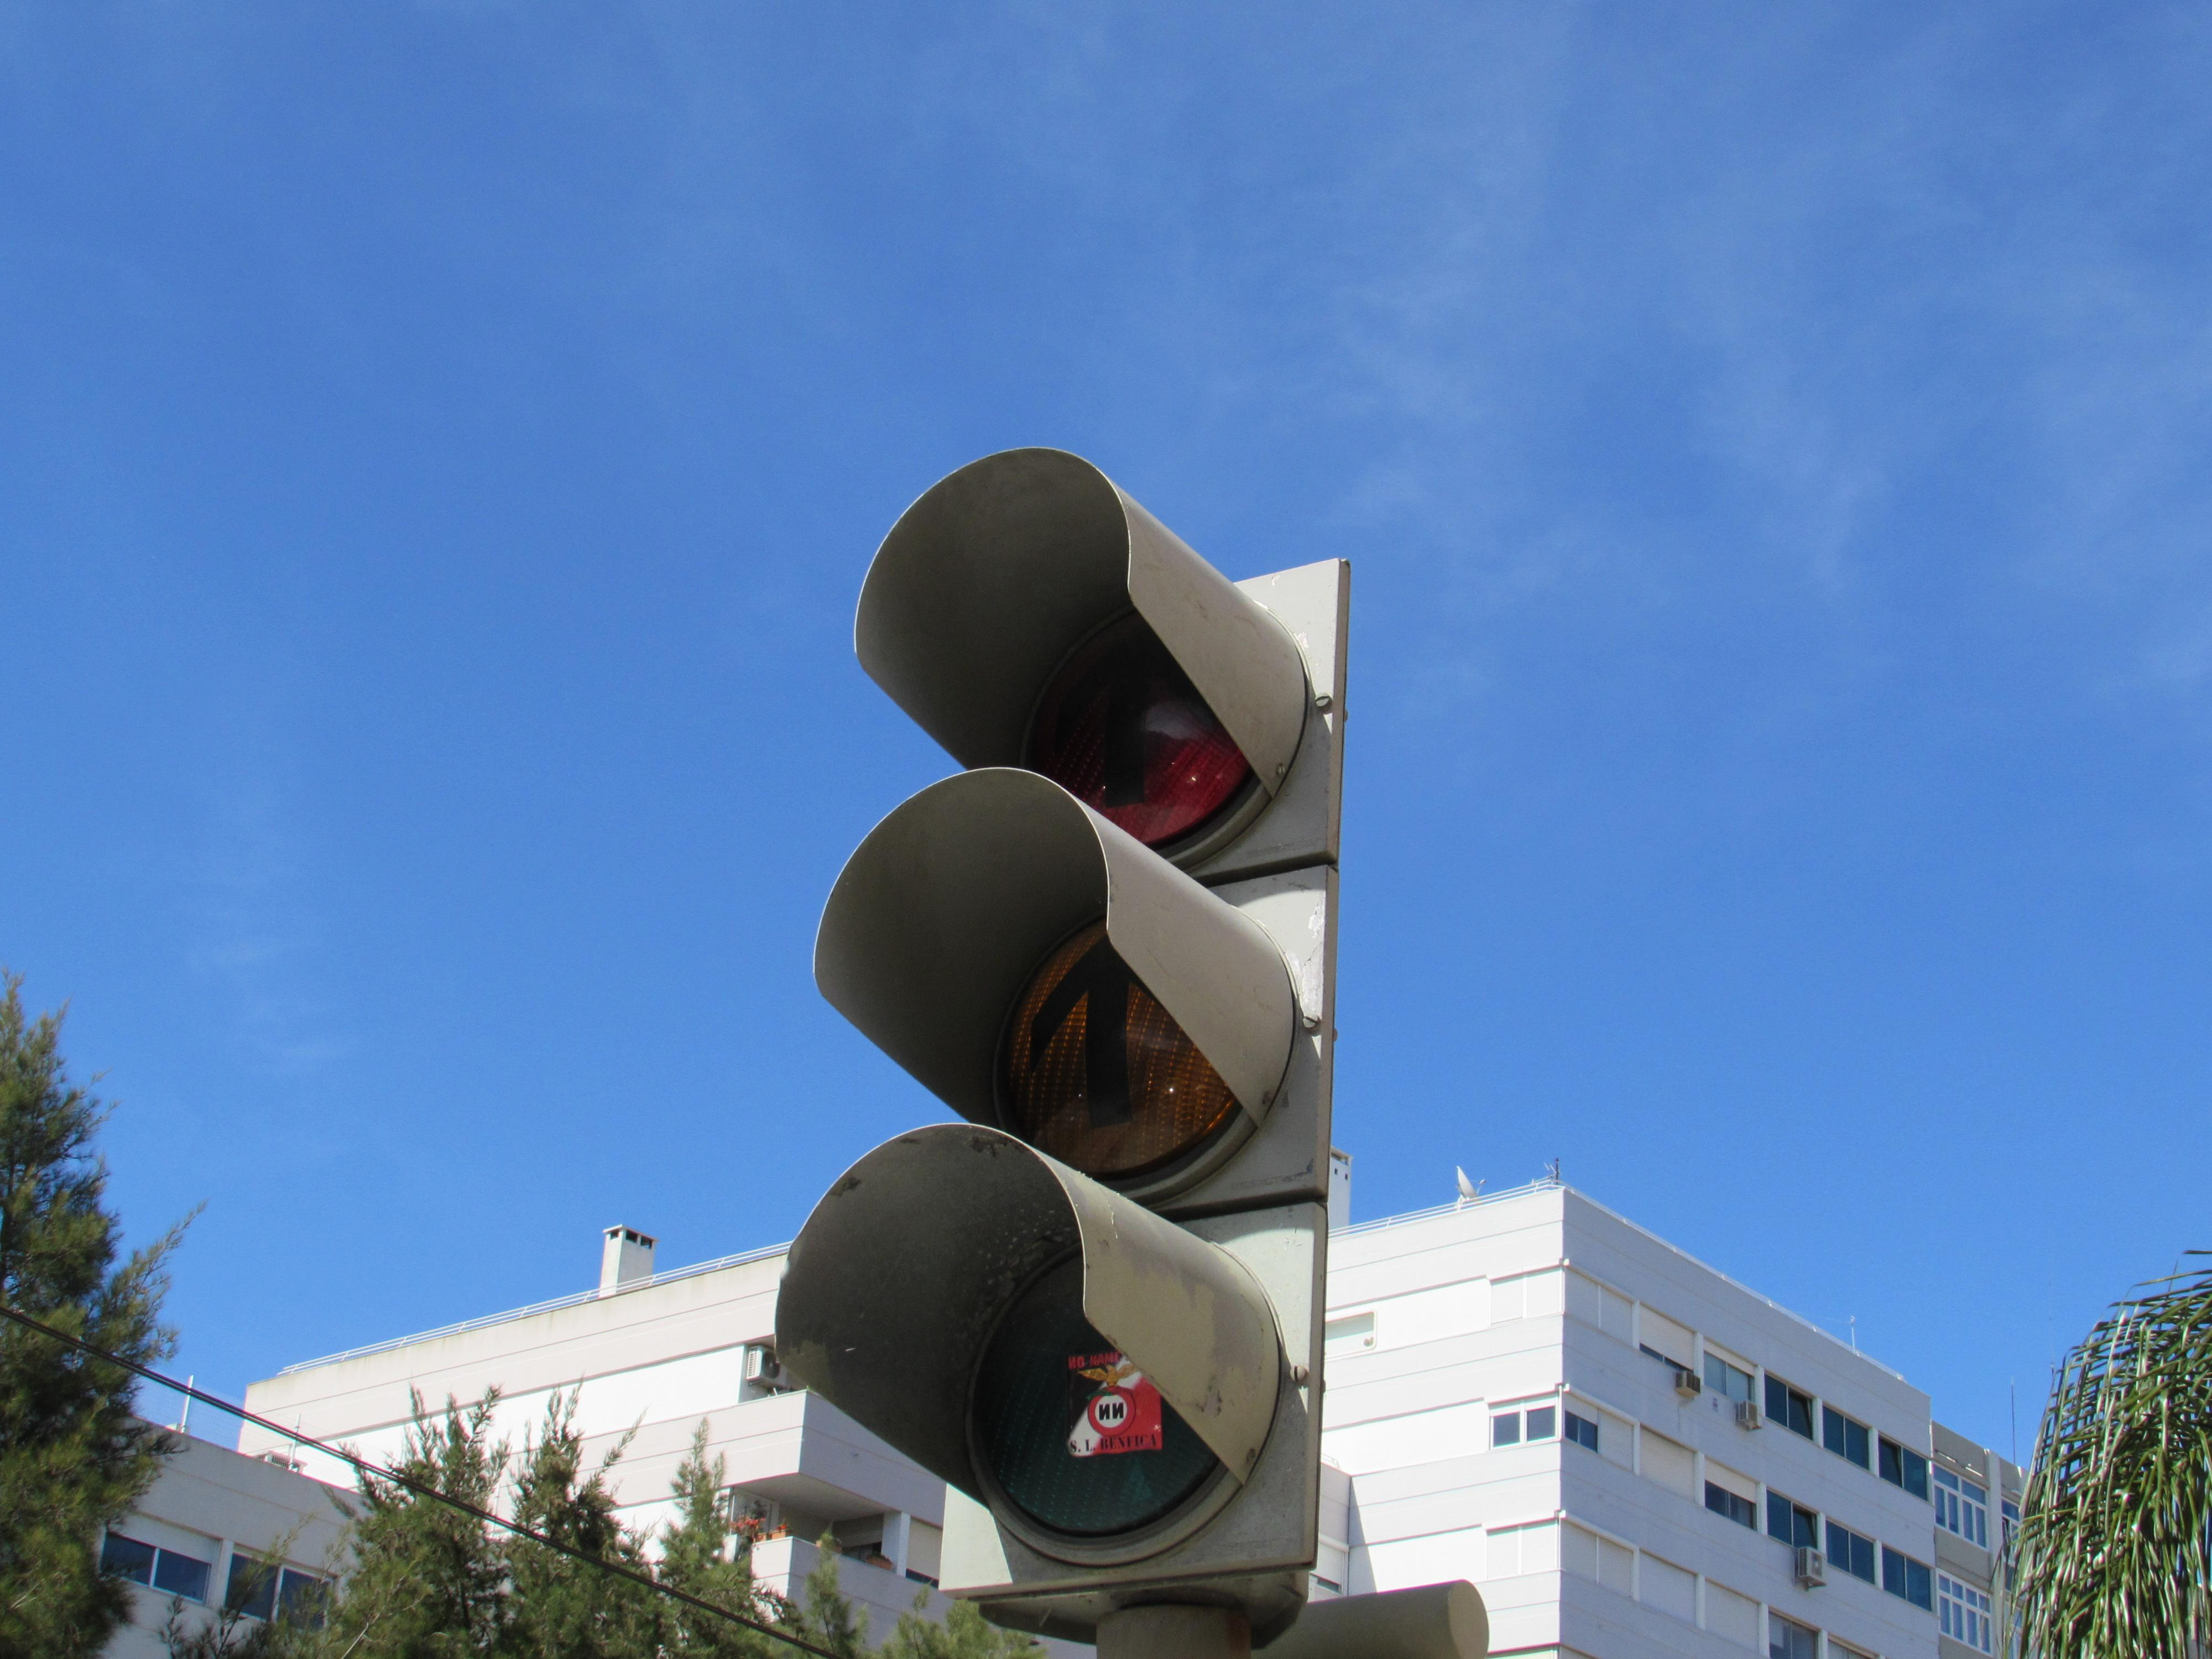yellow_light: (775, 446, 1355, 1600)
